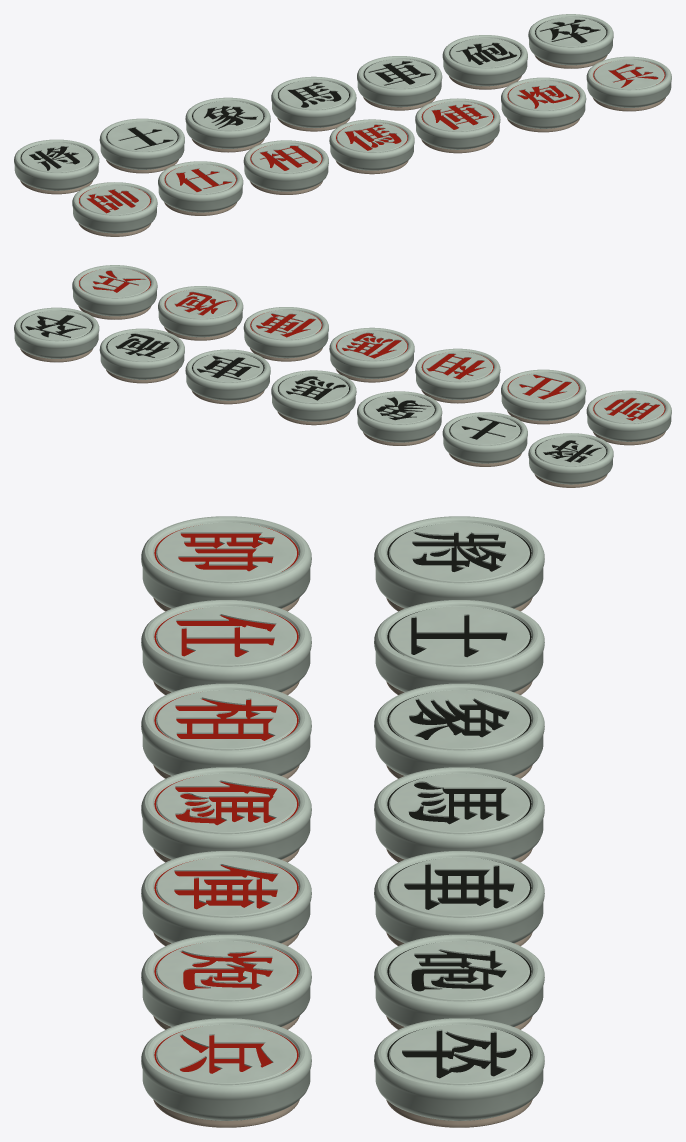
The model's file is celadon.glb.
3 renders of one model, top to bottom at view 1: azimuth 30°, elevation 25°; view 2: azimuth 150°, elevation 25°; view 3: azimuth 270°, elevation 25°, orthographic. The views are drawn at different scales.
Parts seen in each view (by area): view 1: Celadon shared turned ceramic exterior.001, Celadon shared turned ceramic exterior.006, Celadon shared turned ceramic exterior.005, Celadon shared turned ceramic exterior.003, Celadon shared turned ceramic exterior.002, Celadon shared turned ceramic exterior.004, Celadon shared turned ceramic exterior.012, Celadon shared turned ceramic exterior.007, Celadon shared turned ceramic exterior, Celadon shared turned ceramic exterior.008, Celadon shared turned ceramic exterior.013, Celadon shared turned ceramic exterior.009 (+28 smaller); view 2: Celadon shared turned ceramic exterior.008, Celadon shared turned ceramic exterior.013, Celadon shared turned ceramic exterior.012, Celadon shared turned ceramic exterior.010, Celadon shared turned ceramic exterior.009, Celadon shared turned ceramic exterior.011, Celadon shared turned ceramic exterior.005, Celadon shared turned ceramic exterior, Celadon shared turned ceramic exterior.007, Celadon shared turned ceramic exterior.001, Celadon shared turned ceramic exterior.006, Celadon shared turned ceramic exterior.002 (+28 smaller); view 3: Celadon shared turned ceramic exterior.013, Celadon shared turned ceramic exterior.006, Celadon shared turned ceramic exterior.008, Celadon shared turned ceramic exterior.011, Celadon shared turned ceramic exterior.001, Celadon shared turned ceramic exterior.004, Celadon shared turned ceramic exterior.012, Celadon shared turned ceramic exterior.005, Celadon shared turned ceramic exterior.009, Celadon shared turned ceramic exterior.002, Celadon shared turned ceramic exterior.007, Celadon shared turned ceramic exterior.010 (+30 smaller).
Boxes of the visible parts, left/top/right/bottom form: Celadon shared turned ceramic exterior.001: left=158, top=161, right=243, bottom=215; Celadon shared turned ceramic exterior.006: left=586, top=56, right=671, bottom=111; Celadon shared turned ceramic exterior.005: left=501, top=77, right=586, bottom=132; Celadon shared turned ceramic exterior.003: left=329, top=119, right=414, bottom=174; Celadon shared turned ceramic exterior.002: left=243, top=140, right=328, bottom=194; Celadon shared turned ceramic exterior.004: left=415, top=98, right=500, bottom=153; Celadon shared turned ceramic exterior.012: left=442, top=35, right=527, bottom=89; Celadon shared turned ceramic exterior.007: left=14, top=139, right=99, bottom=194; Celadon shared turned ceramic exterior: left=72, top=182, right=157, bottom=236; Celadon shared turned ceramic exterior.008: left=99, top=118, right=184, bottom=173; Celadon shared turned ceramic exterior.013: left=528, top=14, right=613, bottom=68; Celadon shared turned ceramic exterior.009: left=185, top=97, right=270, bottom=152; Celadon shared turned ceramic exterior.008: left=442, top=412, right=527, bottom=466; Celadon shared turned ceramic exterior.013: left=14, top=307, right=99, bottom=362; Celadon shared turned ceramic exterior.012: left=99, top=328, right=184, bottom=383; Celadon shared turned ceramic exterior.010: left=271, top=370, right=356, bottom=425; Celadon shared turned ceramic exterior.009: left=357, top=391, right=442, bottom=445; Celadon shared turned ceramic exterior.011: left=185, top=349, right=270, bottom=404; Celadon shared turned ceramic exterior.005: left=158, top=286, right=243, bottom=340; Celadon shared turned ceramic exterior: left=586, top=390, right=671, bottom=445; Celadon shared turned ceramic exterior.007: left=528, top=433, right=613, bottom=487; Celadon shared turned ceramic exterior.001: left=501, top=369, right=586, bottom=424; Celadon shared turned ceramic exterior.006: left=72, top=265, right=157, bottom=319; Celadon shared turned ceramic exterior.002: left=415, top=348, right=500, bottom=403; Celadon shared turned ceramic exterior.013: left=374, top=1018, right=544, bottom=1127; Celadon shared turned ceramic exterior.006: left=141, top=1018, right=311, bottom=1127; Celadon shared turned ceramic exterior.008: left=374, top=600, right=544, bottom=694; Celadon shared turned ceramic exterior.011: left=374, top=851, right=544, bottom=945; Celadon shared turned ceramic exterior.001: left=141, top=600, right=311, bottom=694; Celadon shared turned ceramic exterior.004: left=141, top=851, right=311, bottom=945; Celadon shared turned ceramic exterior.012: left=374, top=934, right=544, bottom=1029; Celadon shared turned ceramic exterior.005: left=141, top=934, right=311, bottom=1029; Celadon shared turned ceramic exterior.009: left=374, top=683, right=544, bottom=778; Celadon shared turned ceramic exterior.002: left=141, top=683, right=311, bottom=778; Celadon shared turned ceramic exterior.007: left=374, top=516, right=544, bottom=611; Celadon shared turned ceramic exterior.010: left=374, top=767, right=544, bottom=862.
Bounding box in the file's own units: 0.35 × 0.0128 × 0.104.
Materials: 4 (2 with a texture image).
